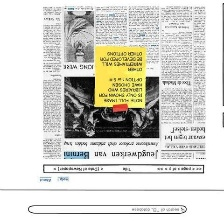news_paper: (35, 0, 215, 189)
